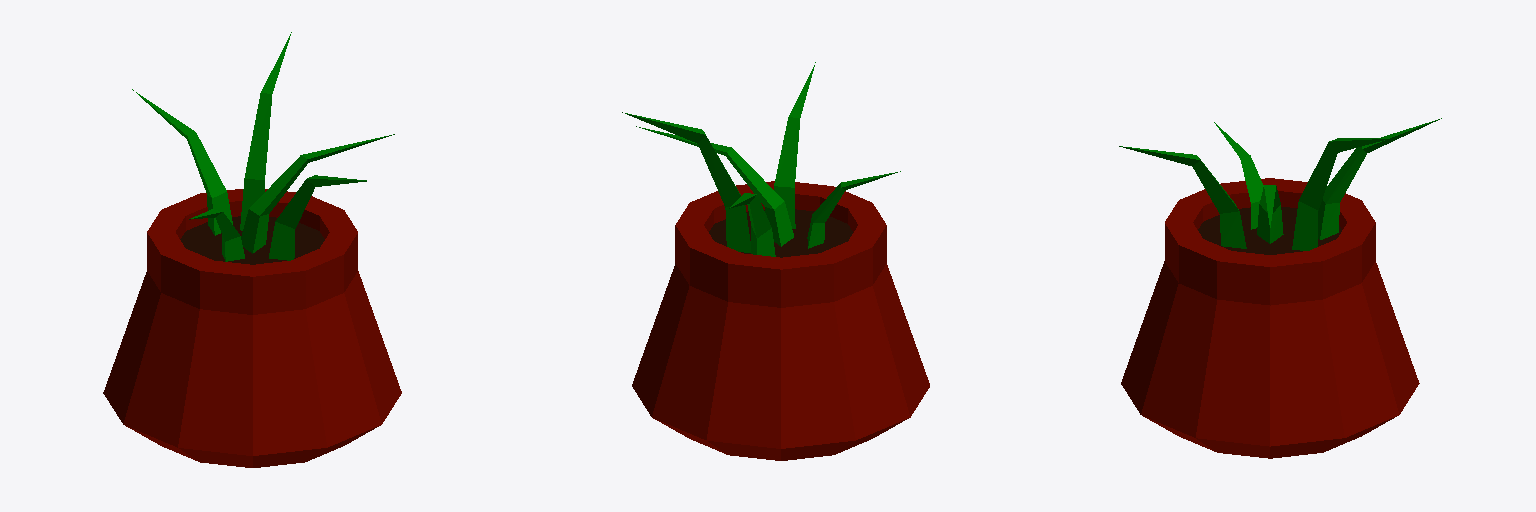
File: potted_plant.obj
3 views of the same model, side by side, from view 1: azimuth 30°, elevation 25°; view 2: azimuth 150°, elevation 25°; view 3: azimuth 270°, elevation 25° (orthographic).
Bounding box in the file's own units: 0.4308 × 0.485 × 0.4431.